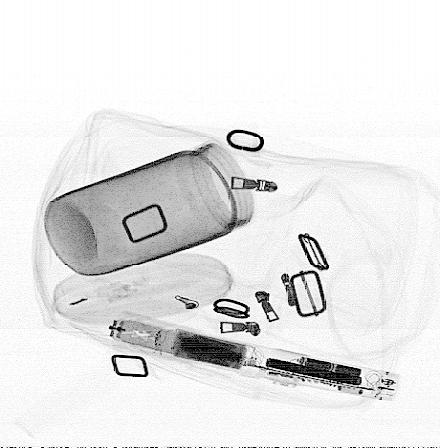Baton: (107, 311, 405, 403)
